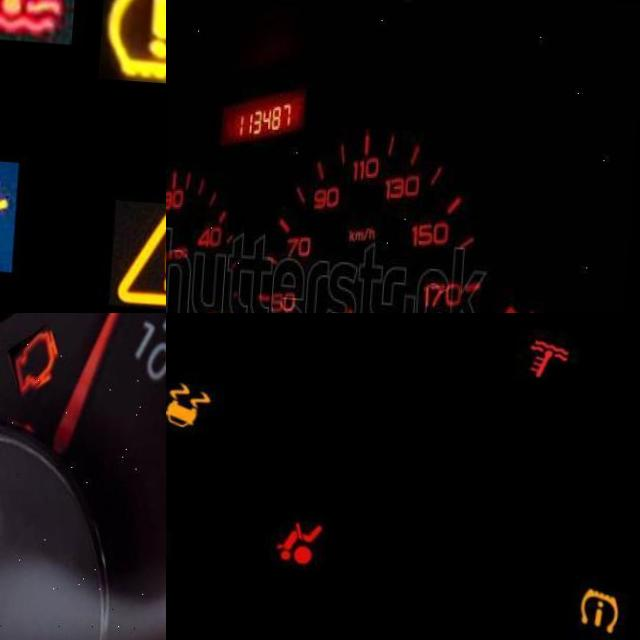Central Warning lamp: (114, 192, 166, 303)
Engine cooling system: (0, 0, 79, 37)
